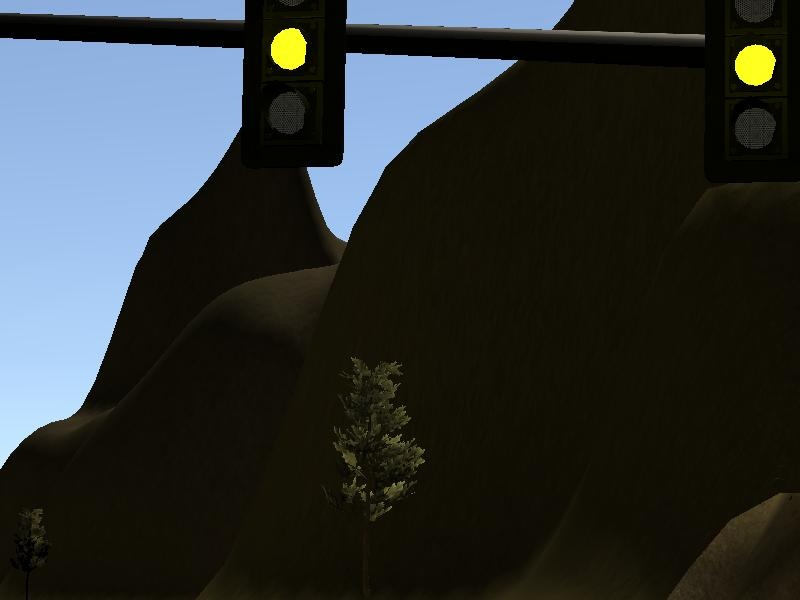yellow: (241, 1, 351, 173), (702, 4, 800, 196)
